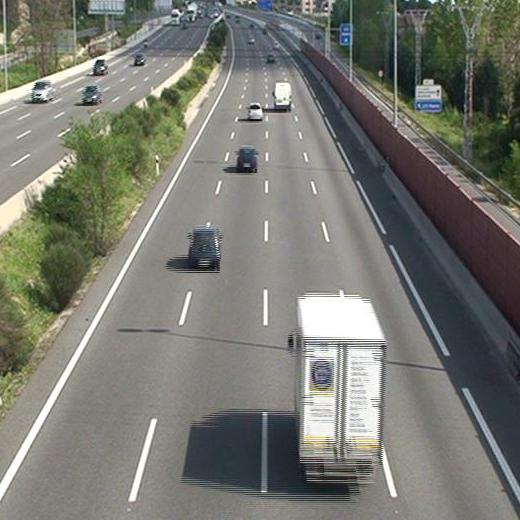car: (188, 230, 222, 270), (235, 145, 259, 173), (246, 102, 263, 119)
small-truck: (288, 292, 384, 484)
van: (271, 82, 292, 111)
